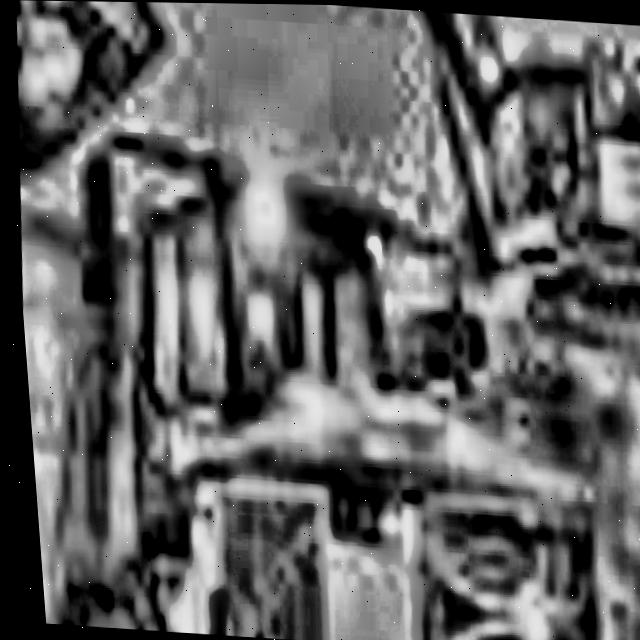dump_truck: (9, 147, 627, 640)
